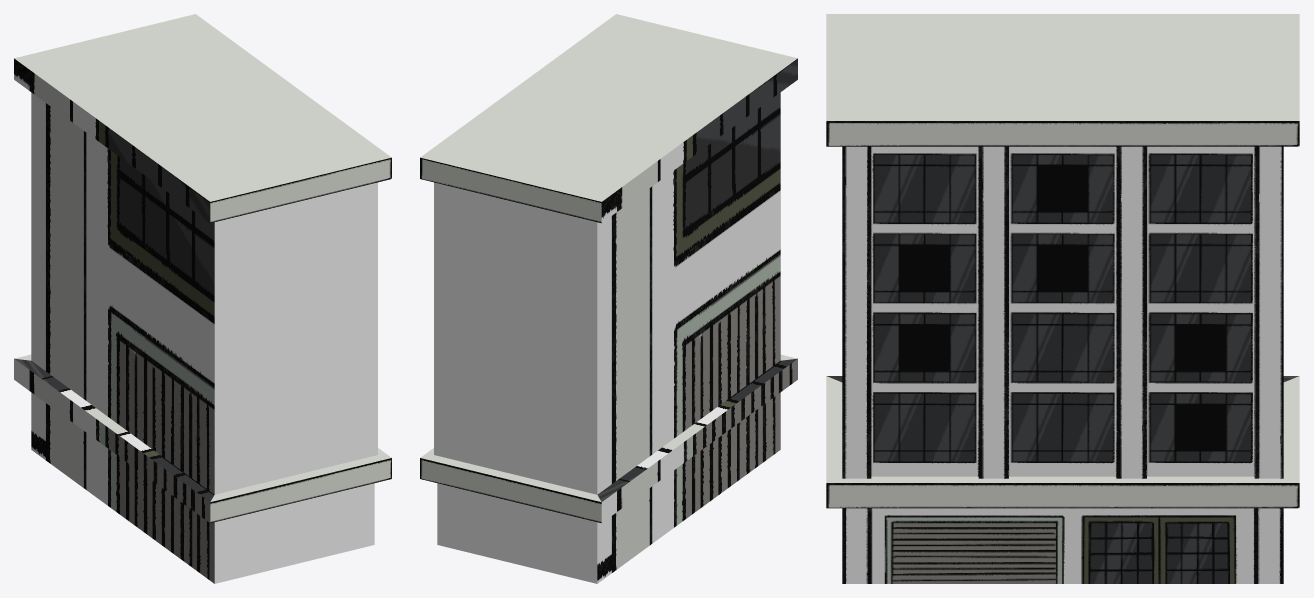
File: predio_5.glb
3 views of the same model, side by side, from view 1: azimuth 30°, elevation 25°; view 2: azimuth 150°, elevation 25°; view 3: azimuth 270°, elevation 25° (orthographic). The views are drawn at different scales.
Visible parts, largest first — view 1: Cube; view 2: Cube; view 3: Cube.
Boxes of the visible parts, x1,y1,x2,y2 form: Cube: (14,14,391,583); Cube: (420,14,797,583); Cube: (826,14,1299,583).
Bounding box in the file's own units: 2.27 × 4.66 × 4.25.
Materials: 1 (1 with a texture image).
